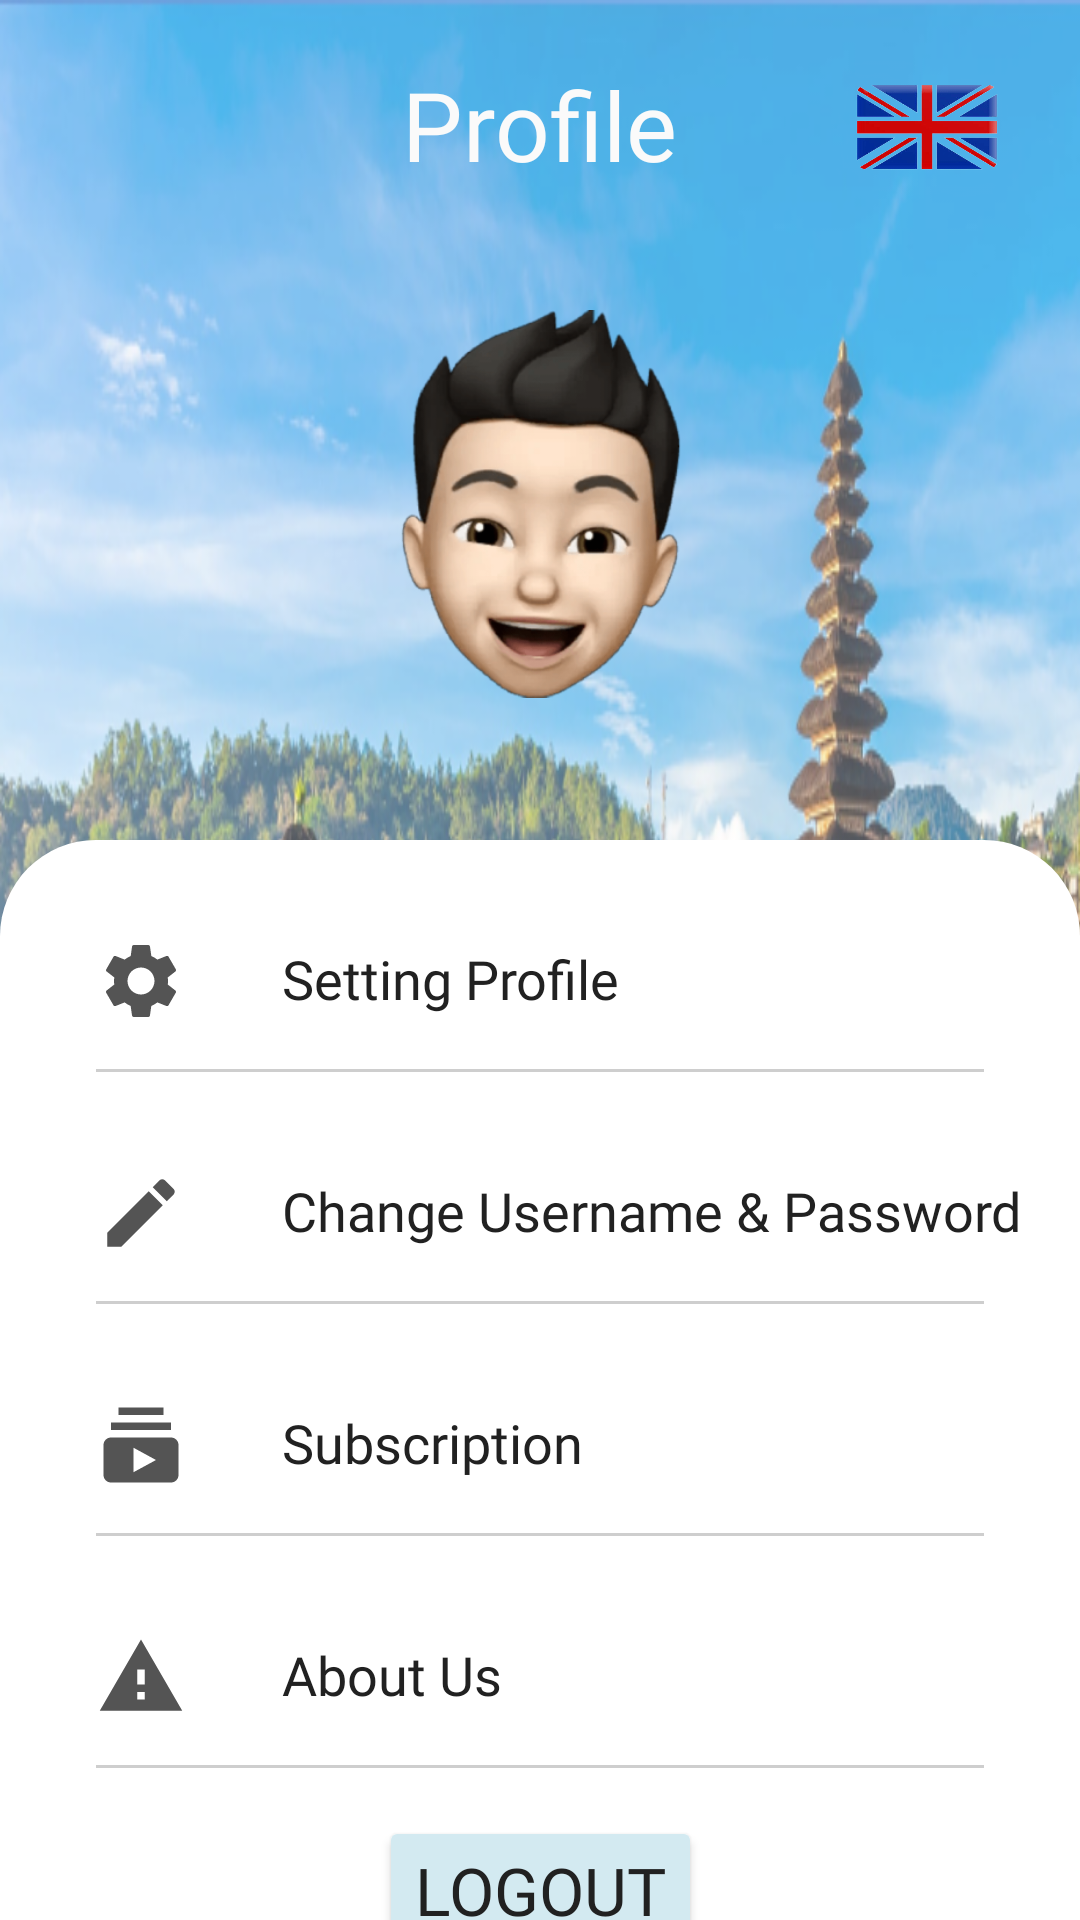

Screen size 1080x1920. Icon name, then its center in pixels as [x,y]:
edit: [141,1213]
report problem: [141,1675]
settings: [141,981]
